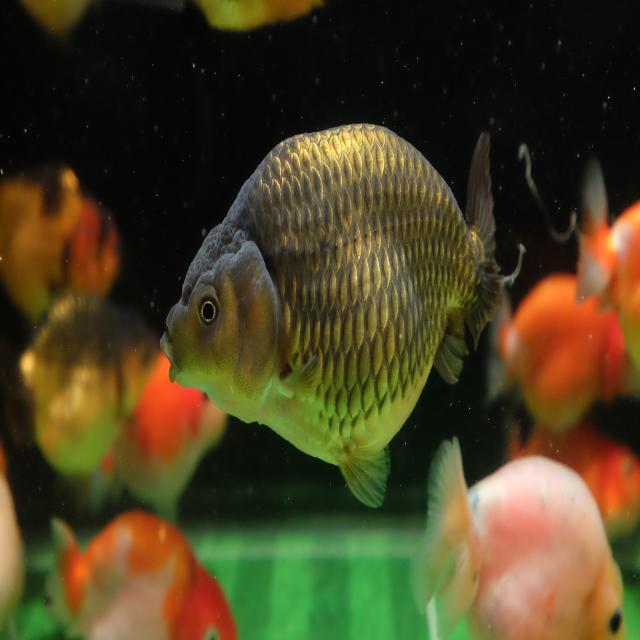Goldfish: (158, 120, 504, 510), (412, 436, 626, 640)
